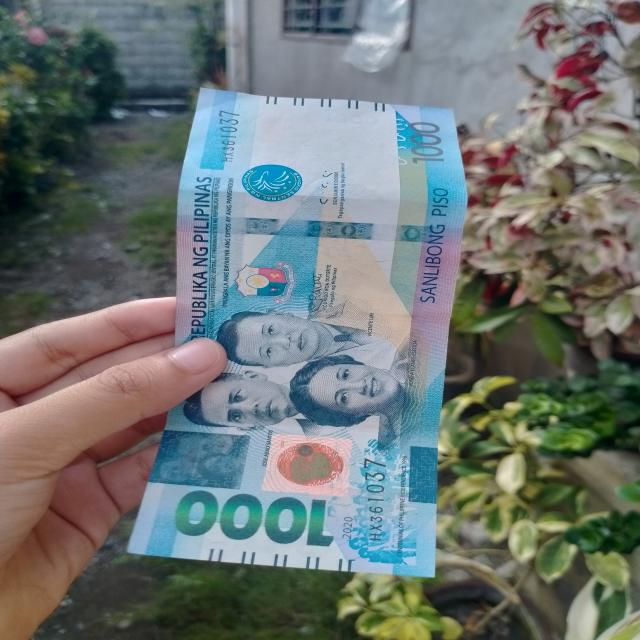concealed_value: (147, 429, 251, 490)
optically_variable_device: (262, 435, 356, 499)
security_thread: (176, 212, 460, 246)
see_through_mark: (382, 114, 412, 170)
serial_number: (351, 454, 395, 552), (211, 105, 244, 170)
value_watermark: (319, 112, 382, 127)
watermark: (230, 113, 386, 180)
